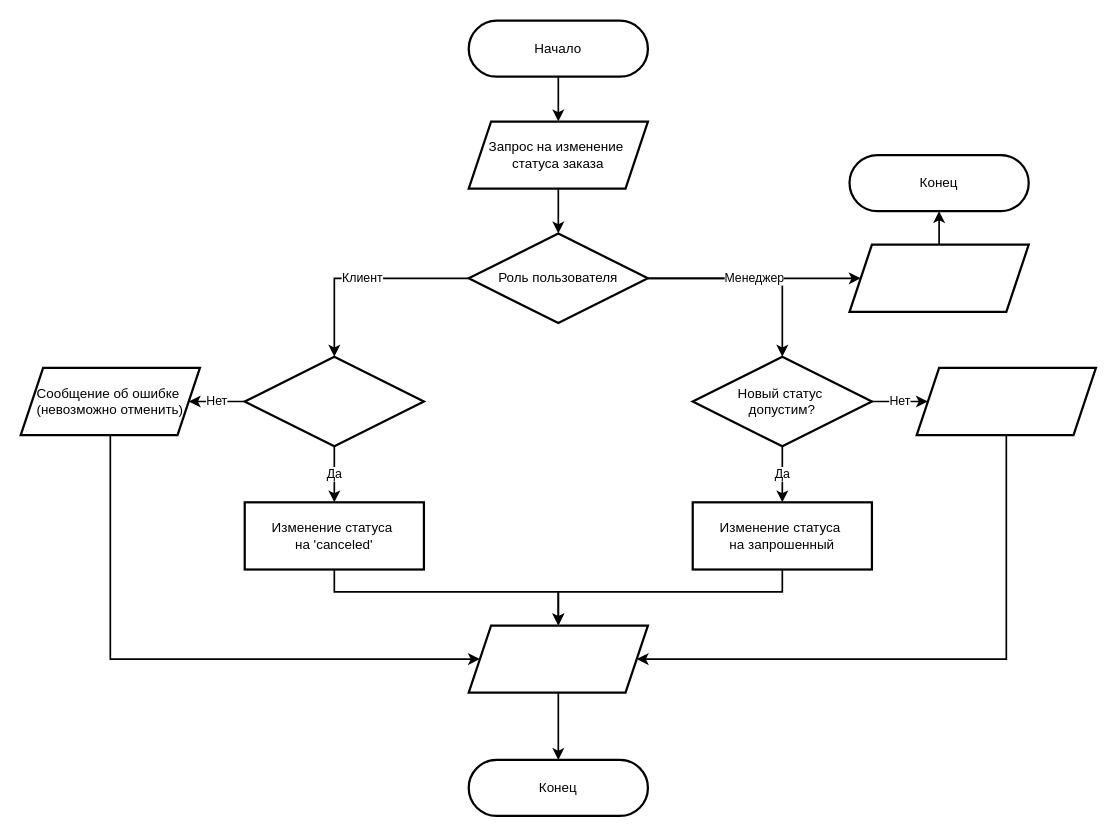
Some shapes in this 1116 by 836 pixel diagram are drawn without their labels. The shapes that lost their labels are listed below. From the top down, each one's centre as x and y in pixels, then its label:
At point (938, 277): "Перенаправление на страницу входа".
At point (333, 401): "Статус заказа == 'pending'?".
At point (1005, 401): "Сообщение об ошибке (неверный статус)".
At point (557, 658): "Перенаправление на список заказов".
